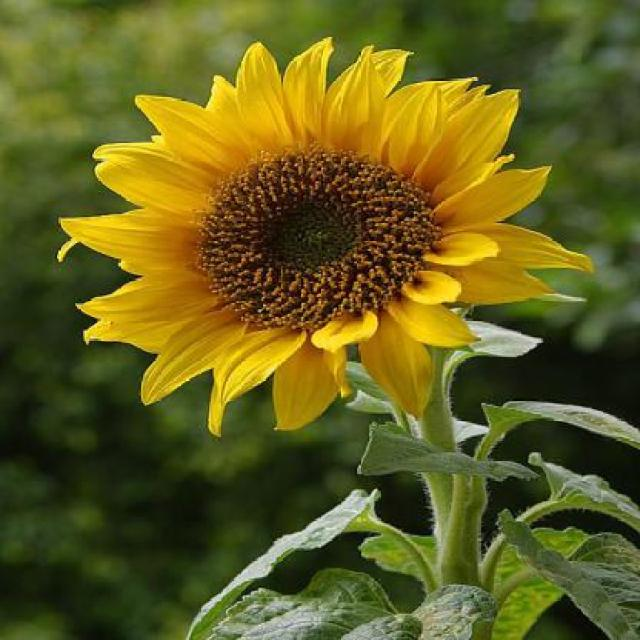sunflower: (57, 31, 554, 434)
